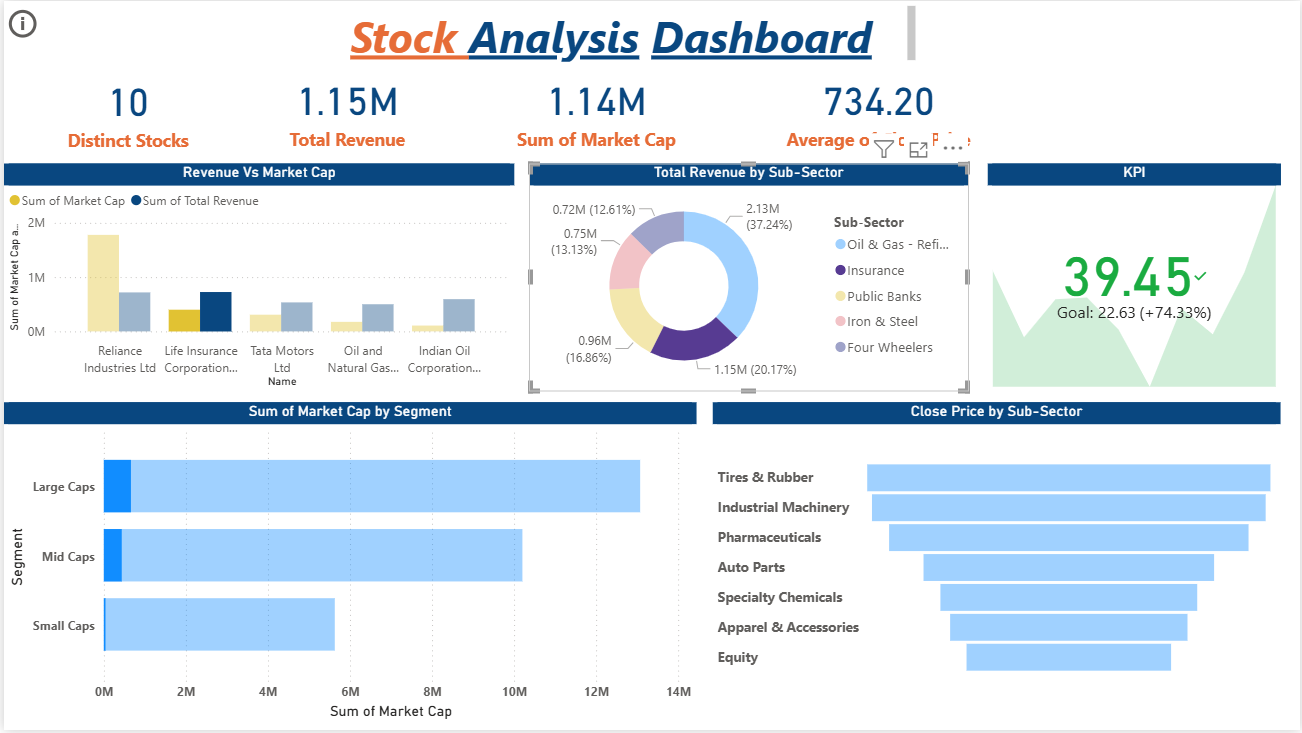

Layout of this report page (visuals, bound fields, positions):
{"tool":"powerbi","page":{"name":"Summary","canvas":[1280,720],"ordinal":0},"visuals":[{"type":"card","fields":{"Values":["Stock+Market+Dataset+for+Case+2 (1).Distinct Stocks"]},"box":[12.1,56.7,220.8,102.5],"z":0},{"type":"card","fields":{"Values":["Stock+Market+Dataset+for+Case+2 (1).Total Rev"]},"box":[220.8,56.7,236.5,100.1],"z":1000},{"type":"card","fields":{"Values":["Sum(Stock+Market+Dataset+for+Case+2 (1).Market Cap)"]},"box":[457.2,54.3,257,105],"z":2000},{"type":"card","fields":{"Values":["Avg(Stock+Market+Dataset+for+Case+2 (1).Close Price)"]},"box":[746.8,56.7,234,100.1],"z":3000},{"type":"clusteredColumnChart","title":"Revenue Vs Market Cap","fields":{"Category":["Stock+Market+Dataset+for+Case+2 (1).Name"],"Y":["Sum(Stock+Market+Dataset+for+Case+2 (1).Market Cap)","Sum(Stock+Market+Dataset+for+Case+2 (1).Total Revenue)"]},"box":[0,160.5,504.3,226.8],"z":4000},{"type":"donutChart","title":" Total Revenue by Sub-Sector","fields":{"Category":["Stock+Market+Dataset+for+Case+2 (1).Sub-Sector"],"Y":["Sum(Stock+Market+Dataset+for+Case+2 (1).Total Revenue)"]},"box":[518.8,160.5,434.3,225.6],"z":5000},{"type":"kpi","title":"KPI ","fields":{"Goal":["Sum(Stock+Market+Dataset+for+Case+2 (1).1Y Forward Revenue Growth)"],"TrendLine":["Stock+Market+Dataset+for+Case+2 (1).Name"],"Indicator":["Sum(Stock+Market+Dataset+for+Case+2 (1).5Y Historical Revenue Growth)"]},"box":[971.2,160.5,289.5,225.6],"z":6000},{"type":"barChart","fields":{"Category":["Stock+Market+Dataset+for+Case+2 (1).Segment","Stock+Market+Dataset+for+Case+2 (1).Sub-Sector","Stock+Market+Dataset+for+Case+2 (1).Name"],"Y":["Sum(Stock+Market+Dataset+for+Case+2 (1).Market Cap)"]},"box":[0,395.7,684.1,318.5],"z":7000},{"type":"textbox","box":[336.6,0,568.2,65.1],"z":8000},{"type":"funnel","title":"Close Price by Sub-Sector","fields":{"Category":["Stock+Market+Dataset+for+Case+2 (1).Sub-Sector"],"Y":["Sum(Stock+Market+Dataset+for+Case+2 (1).Close Price)"]},"box":[699.7,395.7,561,310.1],"z":9000},{"type":"actionButton","box":[0,0,36.9,45.2],"z":10000}]}

Visuals, with their boxes in screenshot pixels (x1, y1, x2, y2), scaled from the page's 1280x720 canvas onto the 1302x733 screenshot:
card - Stock+Market+Dataset+for+Case+2 (1).Distinct Stocks: Rect(12, 58, 237, 162)
card - Stock+Market+Dataset+for+Case+2 (1).Total Rev: Rect(225, 58, 465, 160)
card - Sum(Stock+Market+Dataset+for+Case+2 (1).Market Cap): Rect(465, 55, 726, 162)
card - Avg(Stock+Market+Dataset+for+Case+2 (1).Close Price): Rect(760, 58, 998, 160)
"Revenue Vs Market Cap" clusteredColumnChart: Rect(0, 163, 513, 394)
" Total Revenue by Sub-Sector" donutChart: Rect(528, 163, 969, 393)
"KPI " kpi: Rect(988, 163, 1282, 393)
barChart - Stock+Market+Dataset+for+Case+2 (1).Segment x Stock+Market+Dataset+for+Case+2 (1).Sub-Sector: Rect(0, 403, 696, 727)
textbox: Rect(342, 0, 920, 66)
"Close Price by Sub-Sector" funnel: Rect(712, 403, 1282, 719)
actionButton: Rect(0, 0, 38, 46)
